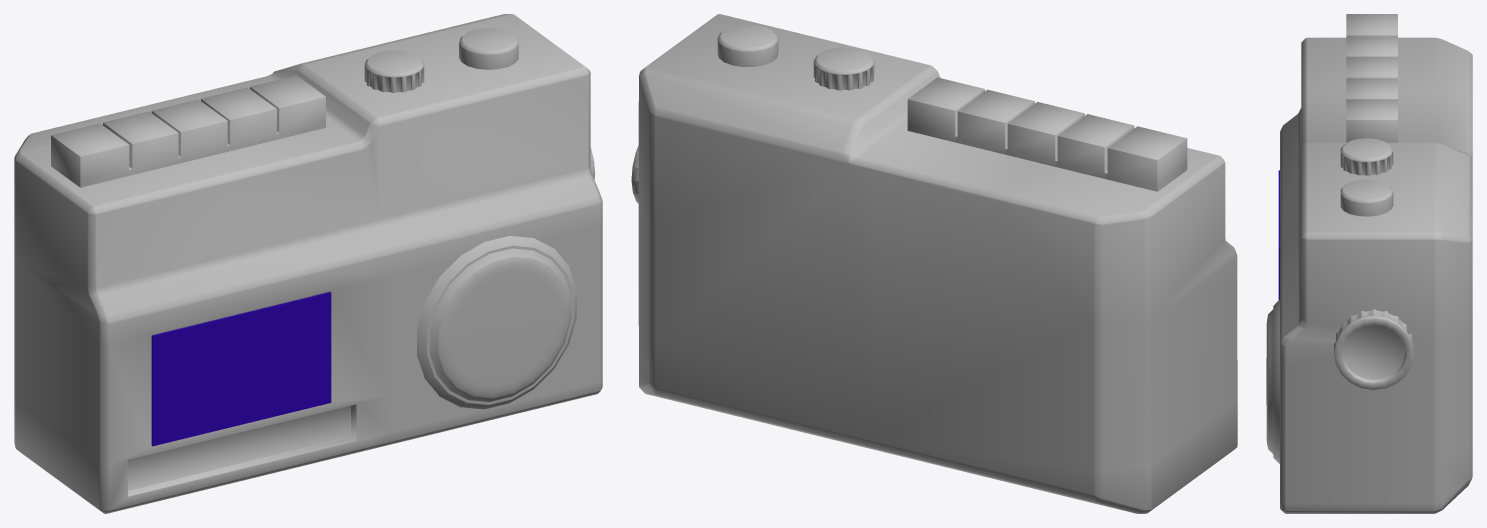
The model's file is Radio(1).fbx.
3 views of the same model, side by side, from view 1: azimuth 30°, elevation 25°; view 2: azimuth 150°, elevation 25°; view 3: azimuth 270°, elevation 25° (orthographic). The views are drawn at different scales.
Parts seen in each view (by area): view 1: Radio; view 2: Radio; view 3: Radio.
Part boxes in pixels (box(x1,y1,x2,y2)): Radio: box(14, 14, 602, 513); Radio: box(631, 14, 1237, 513); Radio: box(1266, 14, 1472, 513).
Size of the model in its own units: 208 by 128 by 80.26.
